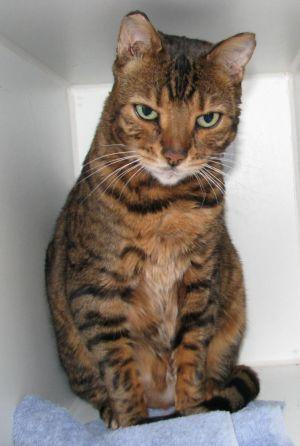bengal: (97, 3, 259, 203)
